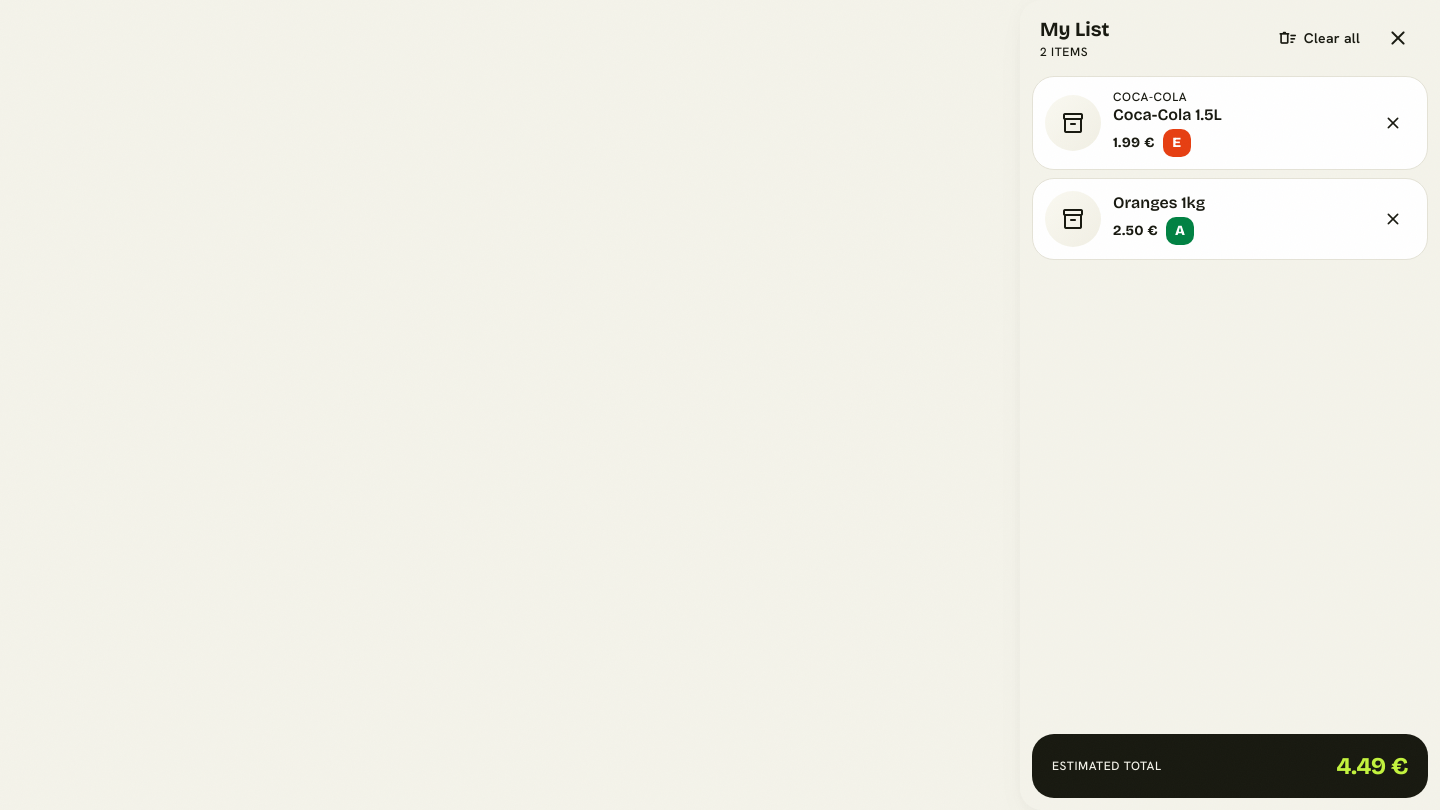
it: MyListSheet › clears all items via the Clear all button
Click the button "Clear all". click: (1319, 38)
box: x1=1266 y1=16 x2=1372 y2=60
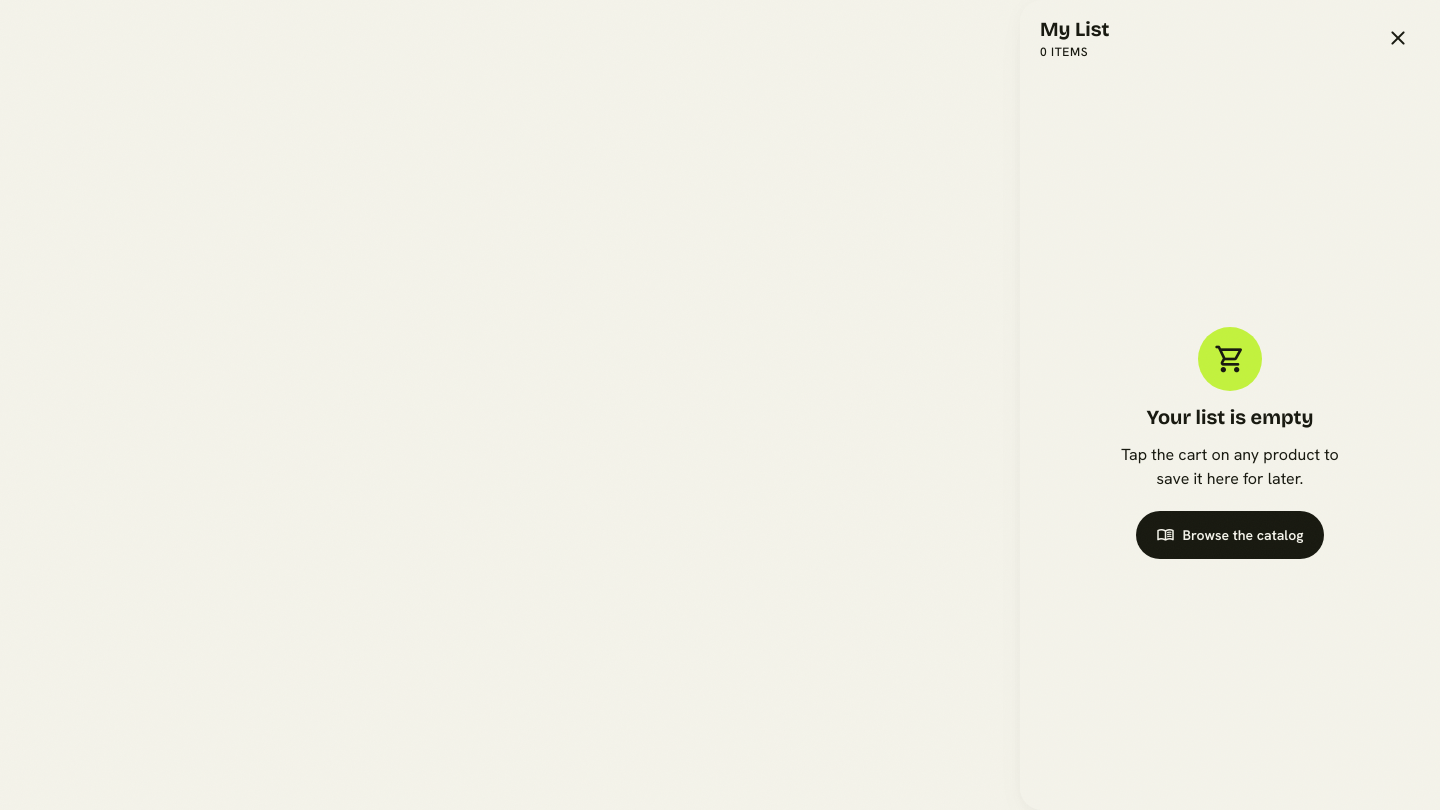
Check: the heading "Your list is empty" is shown, box x1=1147 y1=403 x2=1314 y2=431
